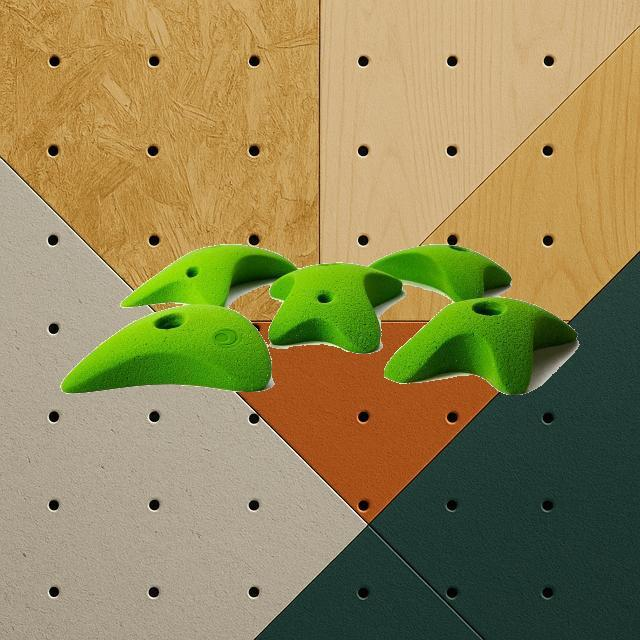Pinch: (382, 295, 578, 395), (59, 304, 271, 392), (266, 263, 400, 353), (118, 244, 296, 308), (368, 245, 512, 301)
